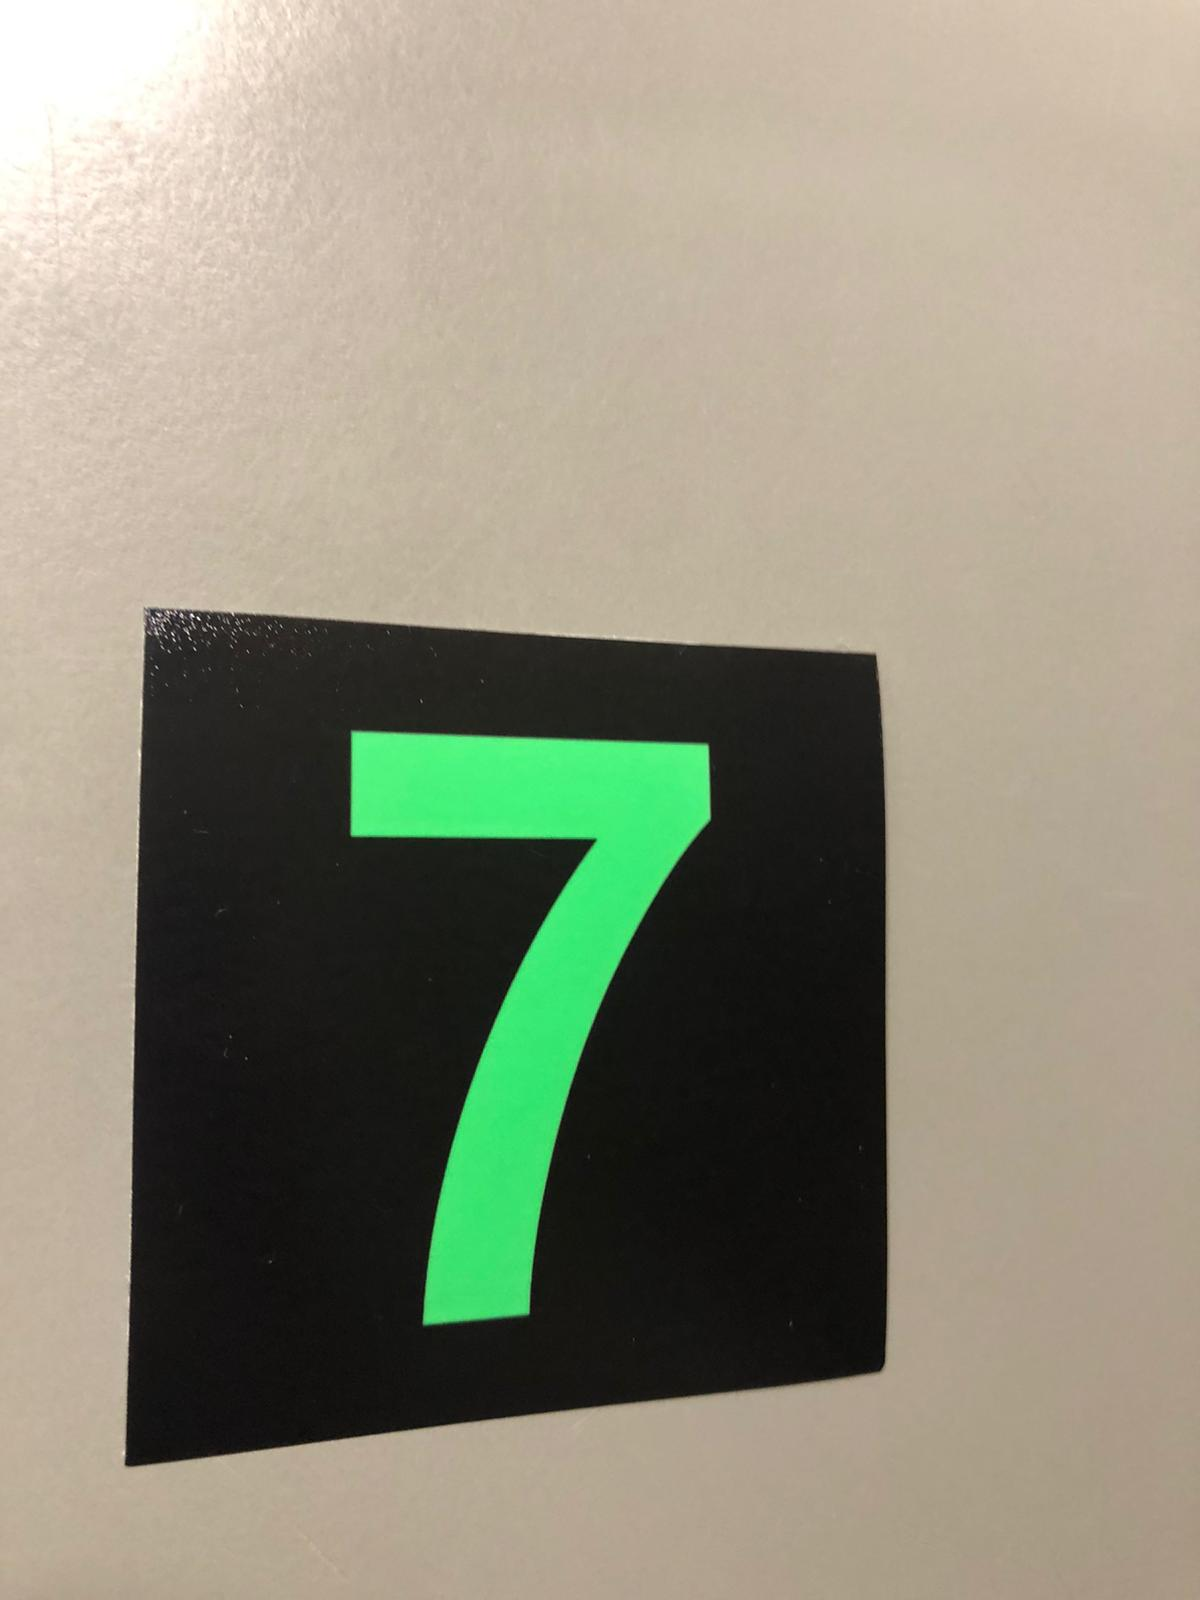Number 7: (179, 663, 807, 1353)
